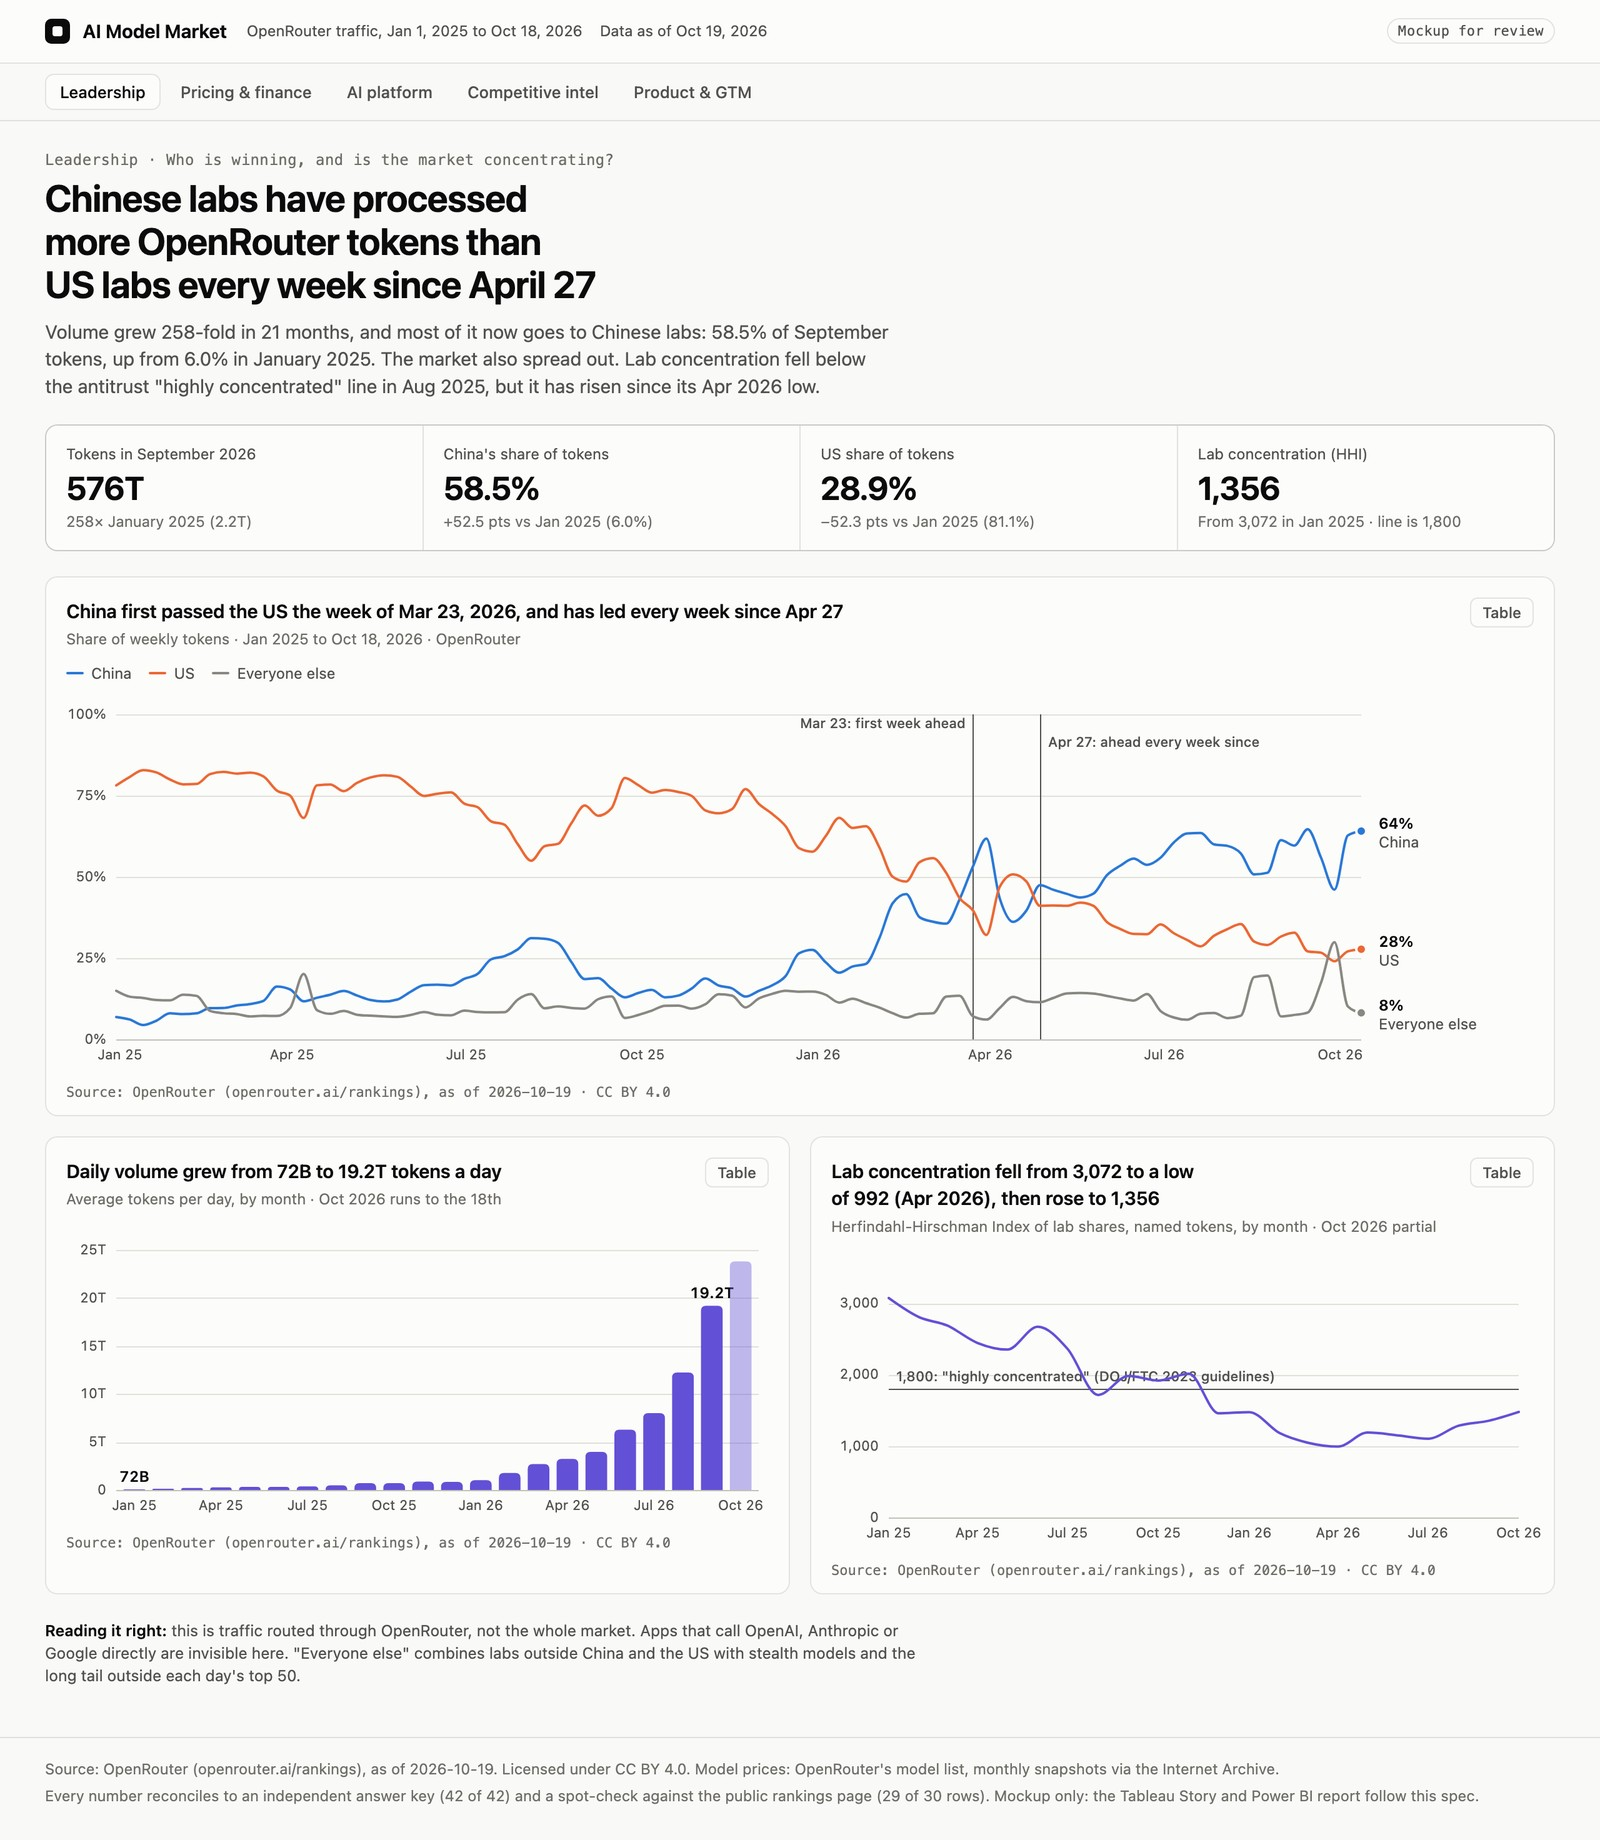

The dashboard page shown, as its layout file describes it:
{"tool":"tableau","page":{"name":"1 · Leadership","canvas":[1400,950],"ordinal":0},"visuals":[{"type":"text","box":[0,0,1400,123.5]},{"type":"text","box":[0,123.5,350,104.5]},{"type":"text","box":[350,123.5,350,104.5]},{"type":"text","box":[700,123.5,350,104.5]},{"type":"text","box":[1050,123.5,350,104.5]},{"type":"worksheet","title":"Weekly share","mark":"Line","rows":["Share"],"cols":["Week"],"box":[0,228,1400,380]},{"type":"worksheet","title":"Daily volume","mark":"Bar","rows":["Tokens per Day (T)"],"cols":["Month"],"box":[0,608,700,275.5]},{"type":"worksheet","title":"Concentration","mark":"Line","rows":["Lab HHI"],"cols":["Month"],"box":[700,608,700,275.5]},{"type":"text","box":[0,883.5,1400,66.5]}]}

Visuals, with their boxes on the page's 1400x950 design canvas (x1, y1, x2, y2). These are canvas units, not pixel positions in the 1600x1840 screenshot, which may show the page scaled, cropped or inside an application window:
text: (x1=0, y1=0, x2=1400, y2=124)
text: (x1=0, y1=124, x2=350, y2=228)
text: (x1=350, y1=124, x2=700, y2=228)
text: (x1=700, y1=124, x2=1050, y2=228)
text: (x1=1050, y1=124, x2=1400, y2=228)
"Weekly share" worksheet (Line marks): (x1=0, y1=228, x2=1400, y2=608)
"Daily volume" worksheet (Bar marks): (x1=0, y1=608, x2=700, y2=884)
"Concentration" worksheet (Line marks): (x1=700, y1=608, x2=1400, y2=884)
text: (x1=0, y1=884, x2=1400, y2=950)
